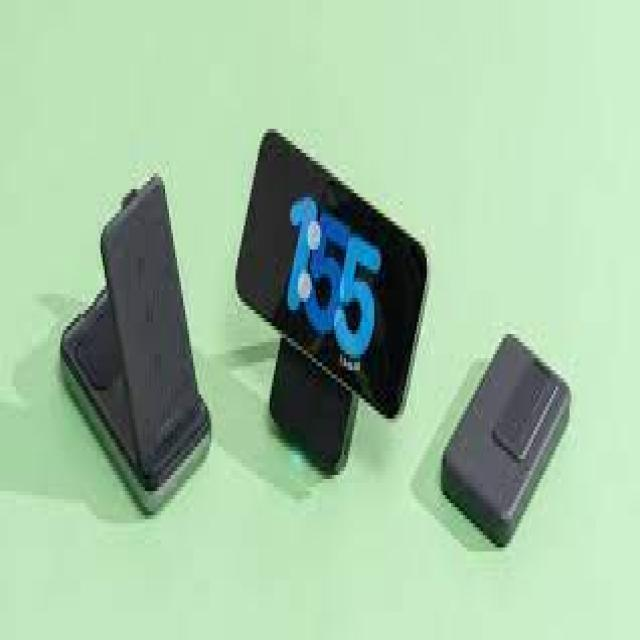portable-charger: (436, 334, 573, 550)
